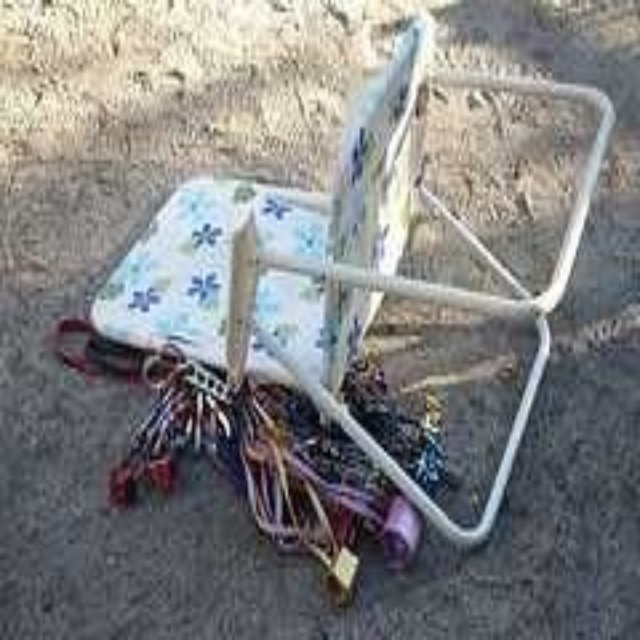obstacle: (91, 16, 613, 596)
